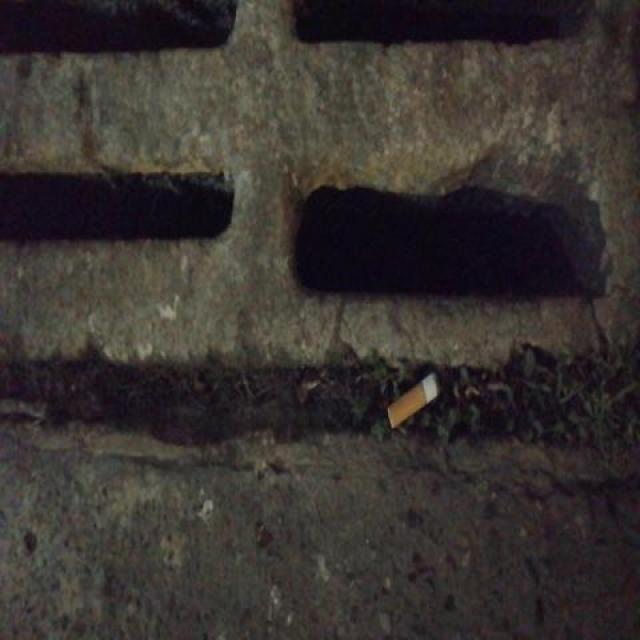non-organic waste: (381, 366, 448, 434)
